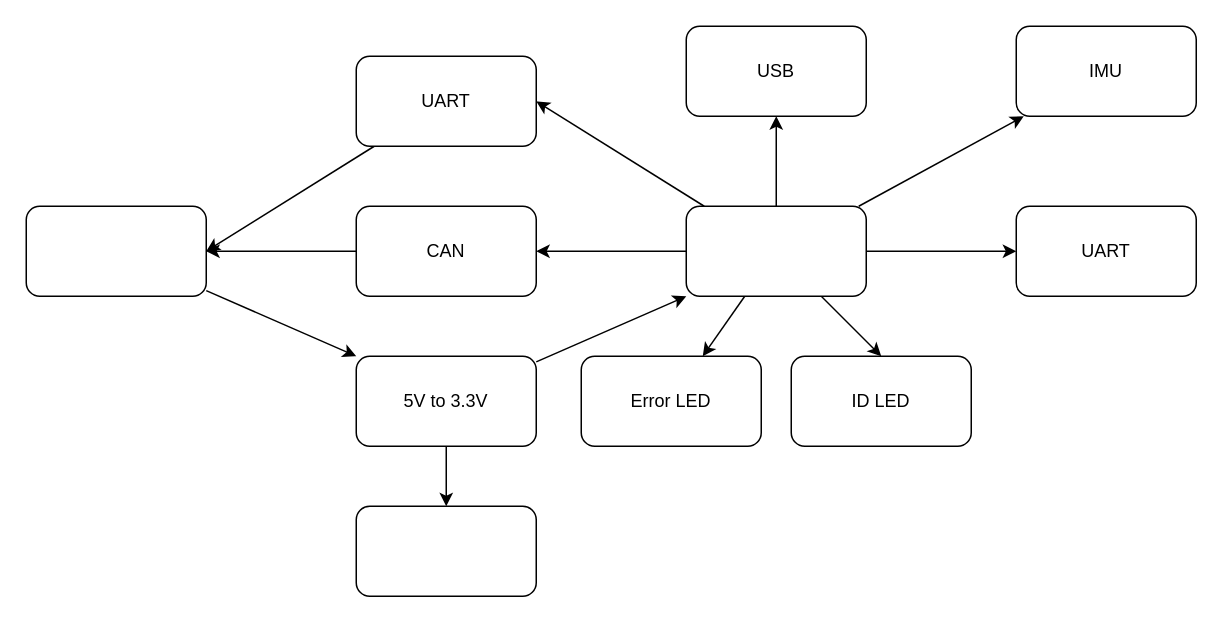
This 1223x623 diagram has some shape labels left out. The shapes that lost their labels are listed below. From the top down, each one's centre as x and y in pixels, then its label:
point 115,250: Ethernet port
point 775,250: esp32
point 445,550: Power LED
